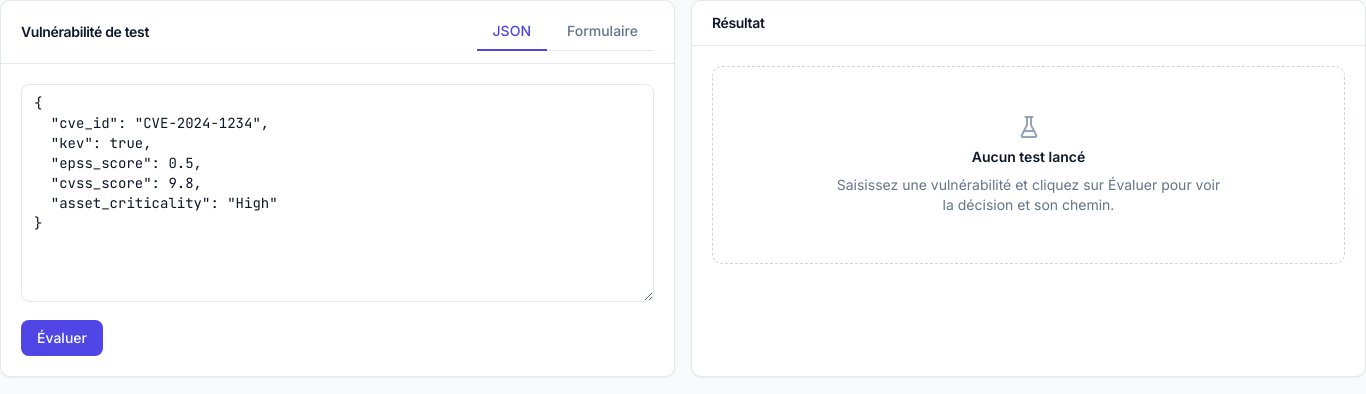
Test case: QuickTest › évalue le JSON saisi et affiche le badge et la timeline
Click the button "Évaluer". click: (62, 338)
box: x1=21 y1=320 x2=103 y2=356
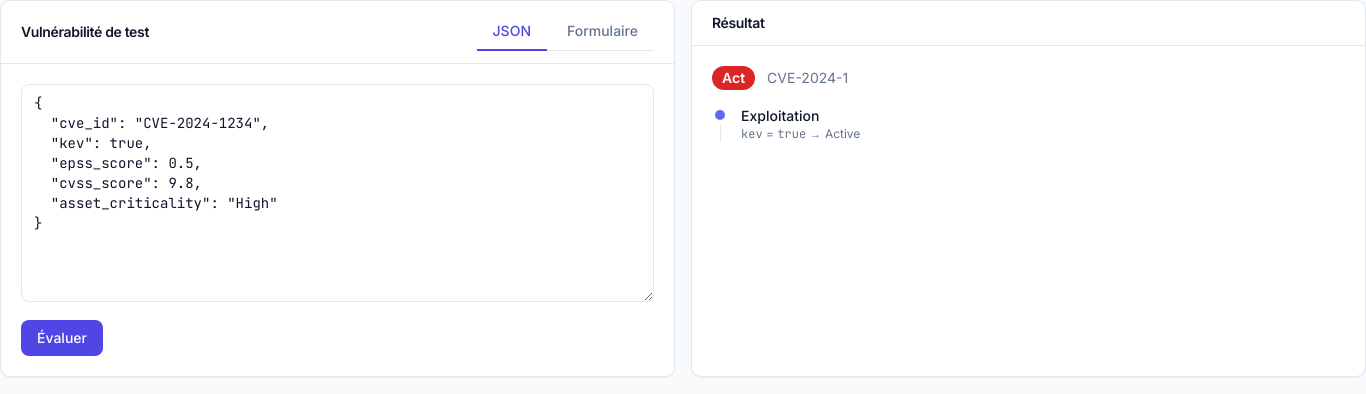
expect the text "Act" is shown: met, box x1=712 y1=66 x2=755 y2=90
expect the text "Exploitation" is shown: met, box x1=741 y1=107 x2=819 y2=124
